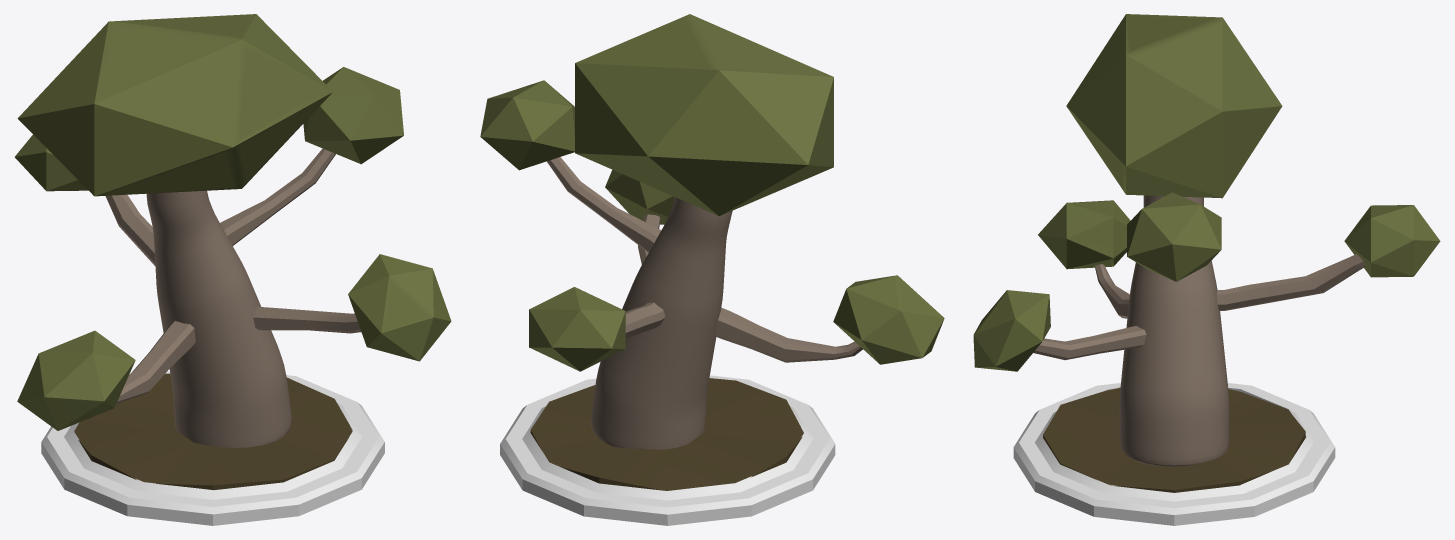
File: Normal tree.fbx
The picture shows the model from 3 angles, left to right: view 1: azimuth 30°, elevation 25°; view 2: azimuth 150°, elevation 25°; view 3: azimuth 270°, elevation 25°; orthographic projection. The views are drawn at different scales.
Parts seen in each view (by area): view 1: pCylinder10; view 2: pCylinder10; view 3: pCylinder10.
Boxes of the visible parts, bbox=[...] form: pCylinder10: bbox=[15, 14, 451, 525]; pCylinder10: bbox=[480, 14, 944, 525]; pCylinder10: bbox=[973, 14, 1440, 525].
Bounding box in the file's own units: 7.9 × 7.87 × 8.23.
